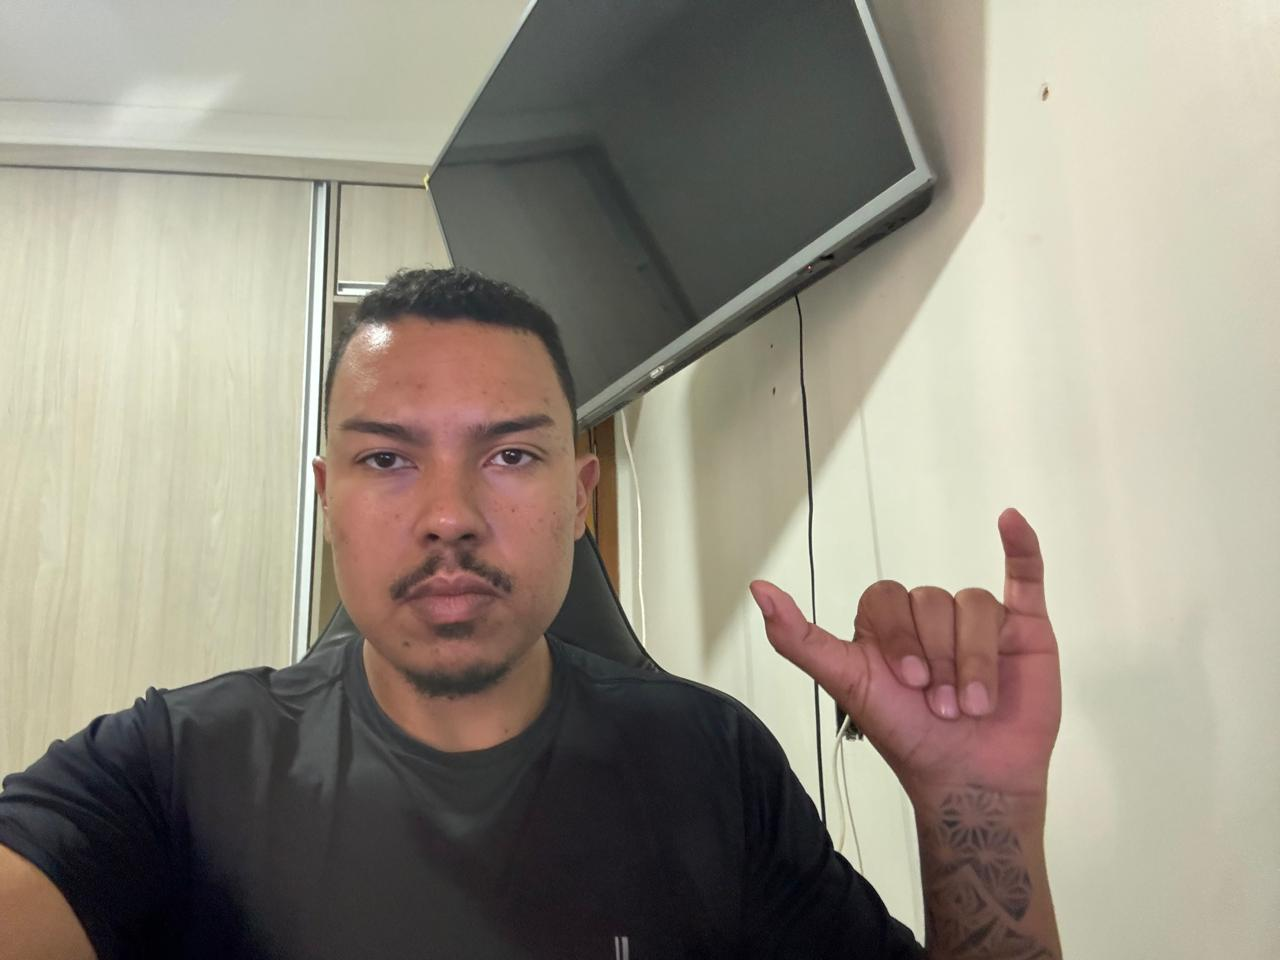y: (746, 502, 1070, 805)
